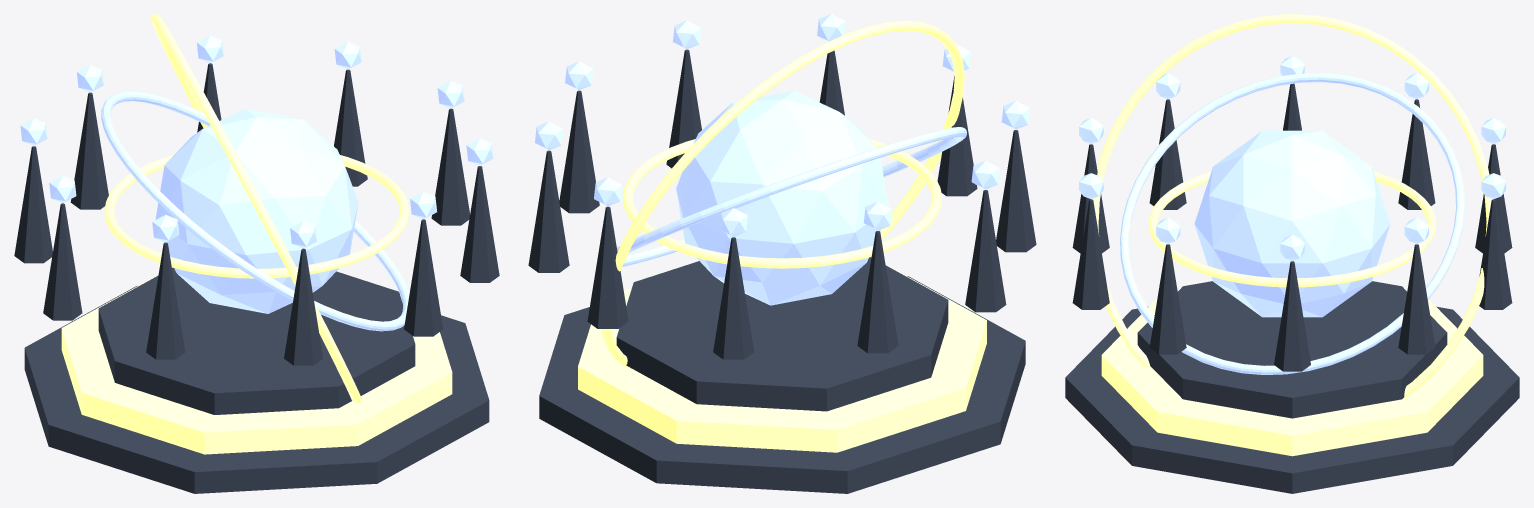
File: gpu-blender-v47.glb
3 renders of one model, left to right at view 1: azimuth 30°, elevation 25°; view 2: azimuth 150°, elevation 25°; view 3: azimuth 270°, elevation 25°, orthographic. The views are drawn at different scales.
Parts seen in each view (by area): view 1: Cylinder.002, SovereignCore_zoth-studio-v2, Cylinder, Cylinder.001, Torus.001, Torus, Torus.002, Cone.004, Cone.005, Cone.008, Cone.006, Cone.007 (+15 smaller); view 2: Cylinder.002, SovereignCore_zoth-studio-v2, Cylinder, Cylinder.001, Torus.002, Torus, Torus.001, Cone.004, Cone.005, Cone.006, Cone.003, Cone.001 (+14 smaller); view 3: SovereignCore_zoth-studio-v2, Cylinder.002, Cylinder, Cylinder.001, Torus.001, Torus.002, Torus, Cone.001, Cone.009, Cone, Cone.008, Cone.002 (+14 smaller).
Part boxes in pixels (box(x1,y1,x2,y2)): Cylinder.002: box(98, 267, 415, 414); SovereignCore_zoth-studio-v2: box(155, 108, 358, 313); Cylinder: box(24, 286, 489, 493); Cylinder.001: box(61, 276, 452, 454); Torus.001: box(101, 91, 409, 331); Torus: box(104, 155, 409, 278); Torus.002: box(150, 14, 361, 403); Cone.004: box(14, 146, 52, 263); Cone.005: box(43, 203, 82, 320); Cone.008: box(404, 219, 443, 336); Cone.006: box(146, 242, 185, 359); Cone.007: box(284, 248, 323, 365); Cylinder.002: box(616, 257, 948, 411); SovereignCore_zoth-studio-v2: box(676, 90, 888, 305); Cylinder: box(539, 276, 1025, 493); Cylinder.001: box(578, 266, 986, 452); Torus.002: box(601, 20, 964, 366); Torus: box(623, 139, 941, 268); Torus.001: box(617, 127, 966, 266); Cone.004: box(857, 231, 898, 353); Cone.005: box(965, 190, 1006, 312); Cone.006: box(996, 130, 1036, 252); Cone.003: box(713, 237, 754, 359); Cone.001: box(528, 150, 569, 272); SovereignCore_zoth-studio-v2: box(1194, 130, 1390, 317); Cylinder.002: box(1137, 281, 1447, 418); Cylinder: box(1065, 306, 1519, 493); Cylinder.001: box(1101, 298, 1483, 456); Torus.001: box(1120, 73, 1464, 374); Torus.002: box(1092, 14, 1492, 398); Torus: box(1148, 171, 1436, 287); Cone.001: box(1398, 244, 1435, 354); Cone.009: box(1149, 244, 1186, 354); Cone: box(1274, 261, 1310, 371); Cone.008: box(1072, 199, 1109, 309); Cone.002: box(1479, 199, 1512, 309).
Size of the model in its own units: 4.41 by 3.72 by 4.4.
